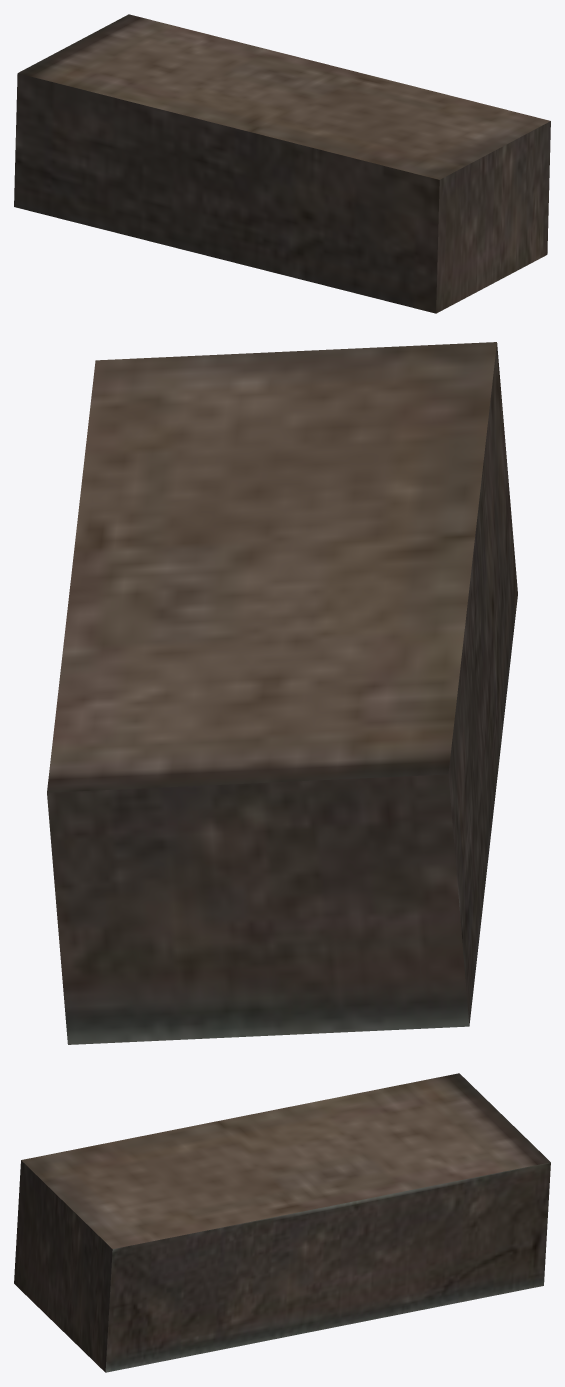
File: Brick_001.fbx
3 views of the same model, one above another, from view 1: azimuth 30°, elevation 25°; view 2: azimuth 150°, elevation 25°; view 3: azimuth 270°, elevation 25° (orthographic). The views are drawn at different scales.
Parts seen in each view (by area): view 1: pCube43; view 2: pCube43; view 3: pCube43.
Boxes of the visible parts, left/top/right/bottom form: pCube43: left=14, top=14, right=550, bottom=313; pCube43: left=47, top=342, right=517, bottom=1044; pCube43: left=14, top=1073, right=550, bottom=1372.
Size of the model in its own units: 0.6396 by 0.2546 by 0.8335.
Materials: 1 (1 with a texture image).
